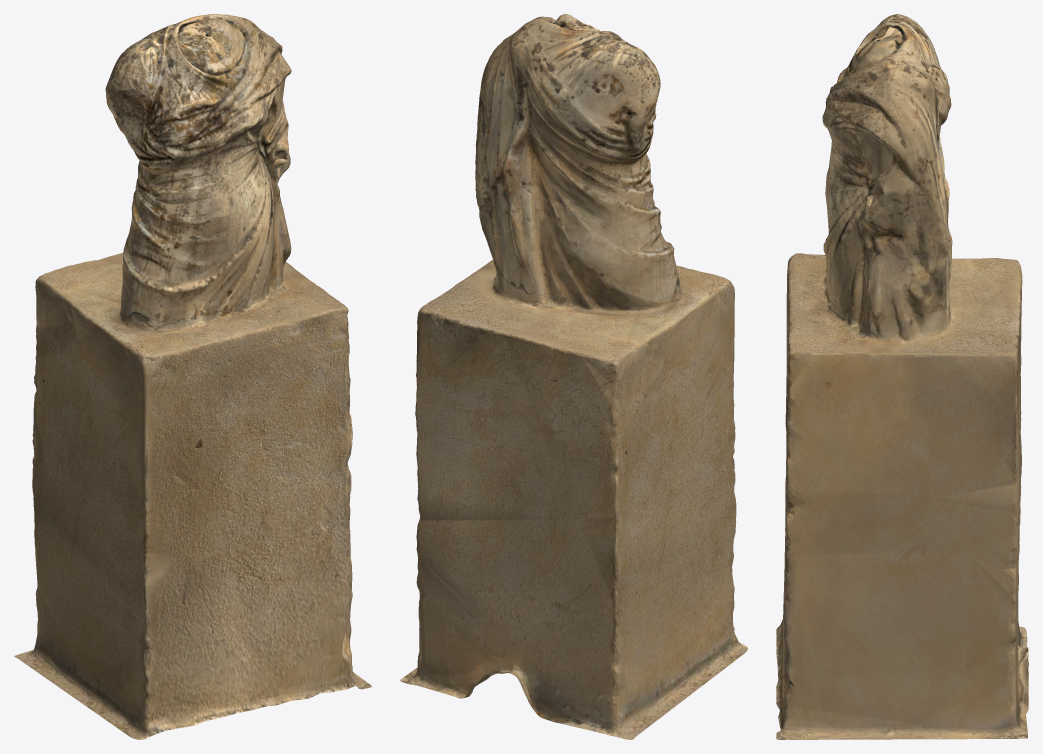
File: statue_fragment__roman_villas_of_carthage(1).glb
3 views of the same model, side by side, from view 1: azimuth 30°, elevation 25°; view 2: azimuth 150°, elevation 25°; view 3: azimuth 270°, elevation 25° (orthographic).
Visible parts, largest first — view 1: Object_2; view 2: Object_2; view 3: Object_2.
Part boxes in pixels (x1,y1,x2,y2): Object_2: (14, 14, 371, 739); Object_2: (400, 14, 747, 739); Object_2: (776, 14, 1028, 739).
Size of the model in its own units: 0.5906 by 1.56 by 0.5451.
1 material, 1 textured.
